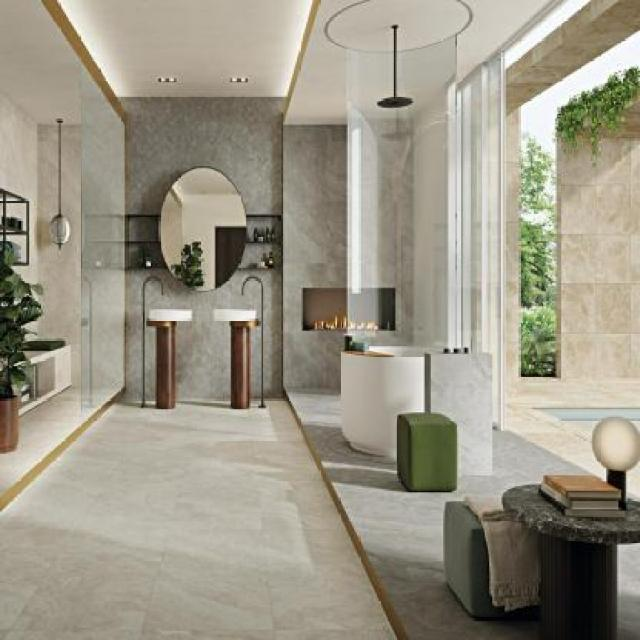Floor: (0, 398, 397, 640), (284, 378, 640, 639), (0, 386, 79, 498)
